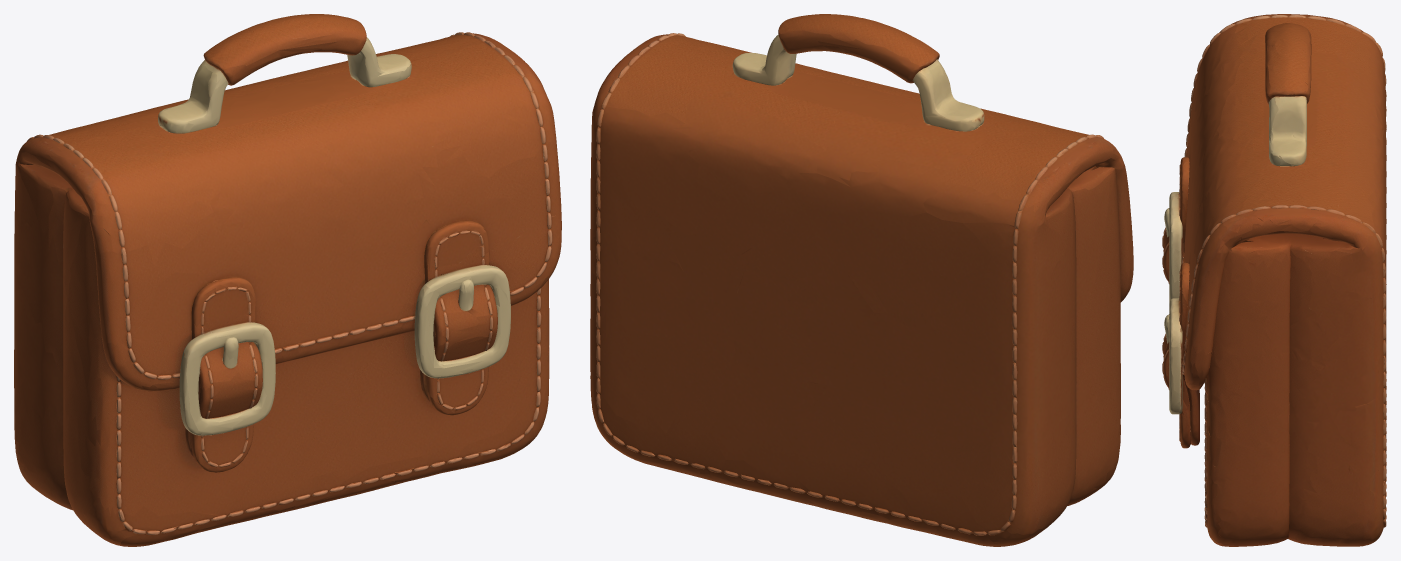
Rendered from t2-leather.original.glb.
3 views of the same model, side by side, from view 1: azimuth 30°, elevation 25°; view 2: azimuth 150°, elevation 25°; view 3: azimuth 270°, elevation 25° (orthographic). The views are drawn at different scales.
Parts seen in each view (by area): view 1: mesh_node; view 2: mesh_node; view 3: mesh_node.
Part boxes in pixels (box(x1,y1,x2,y2)): mesh_node: box(14, 14, 561, 546); mesh_node: box(590, 14, 1133, 546); mesh_node: box(1162, 14, 1386, 546).
Bounding box in the file's own units: 1.9 × 1.81 × 0.8665.
Materials: 1 (1 with a texture image).
